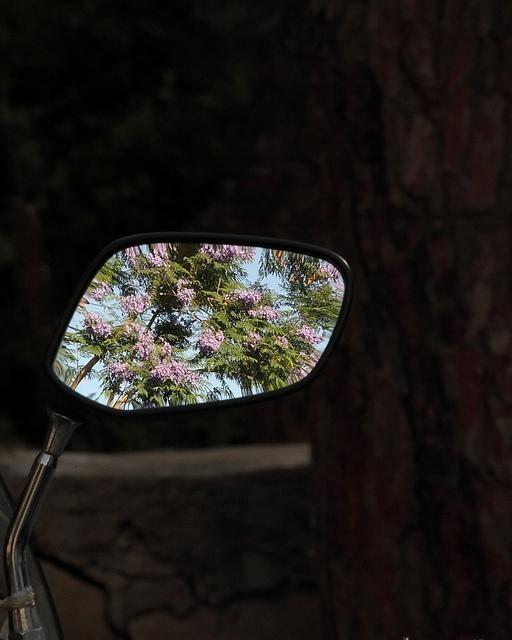motorcycle: (0, 232, 359, 640)
